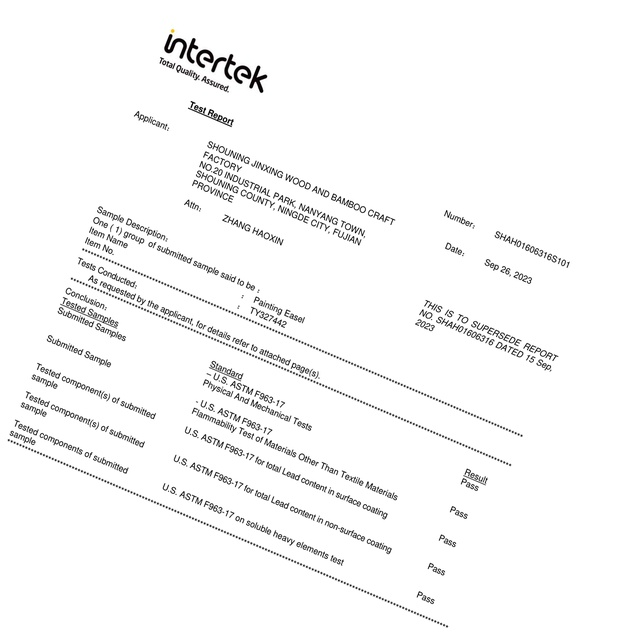intertek: (158, 23, 267, 97)
